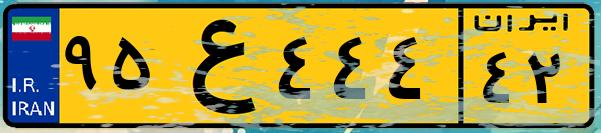2: (525, 38, 570, 115)
4: (270, 28, 330, 110), (385, 28, 445, 110), (330, 28, 385, 110), (475, 38, 525, 113)
5: (110, 28, 158, 98)
9: (57, 26, 110, 100)
ع: (158, 12, 270, 120)
